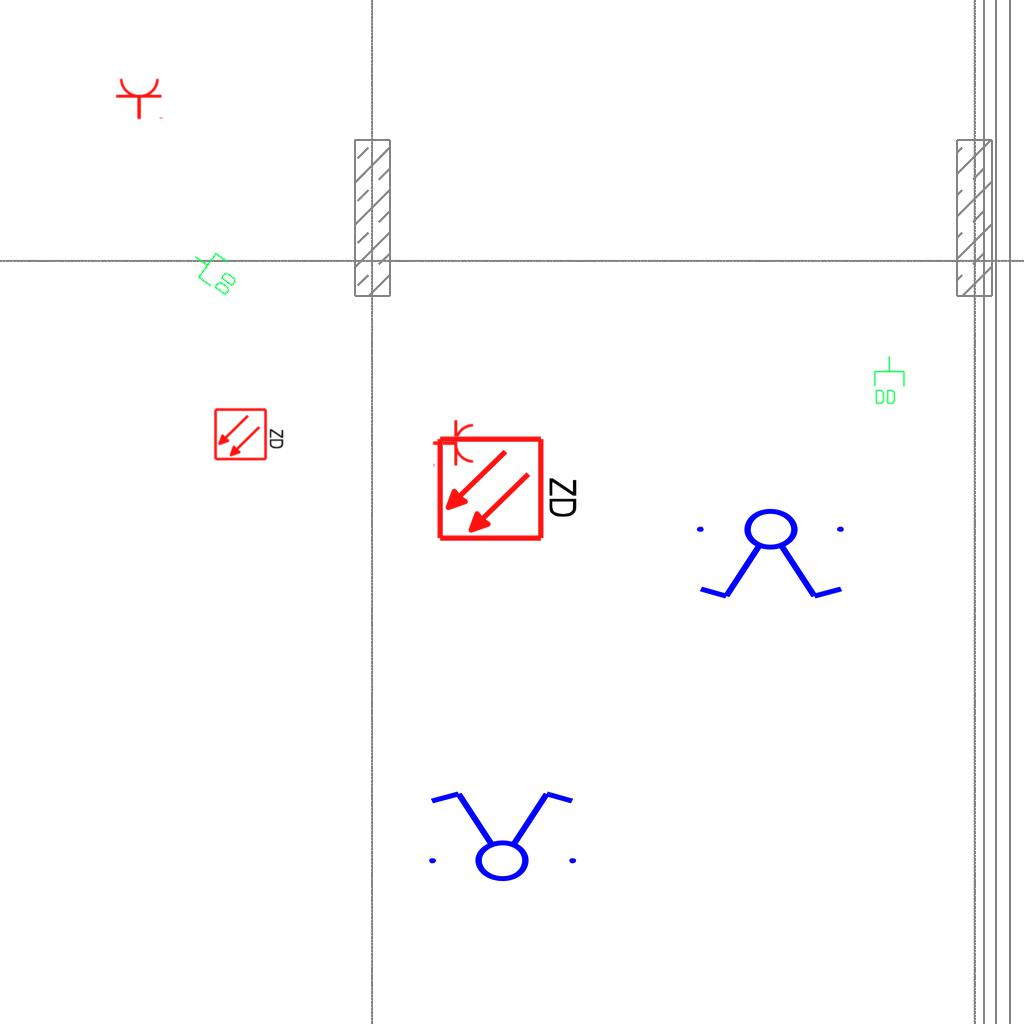Datenanschluss_zweifach: (183, 242, 246, 300), (872, 355, 906, 406)
Schukosteckdose_einfach: (115, 77, 165, 120), (432, 419, 475, 469)
Serienschalter: (417, 787, 585, 883), (688, 507, 856, 603)
ZD_Melder_in_Zwischendecke_mit_Revisionsoeffnung_mind_40_x_40_cm: (435, 430, 584, 544), (213, 405, 287, 462)
